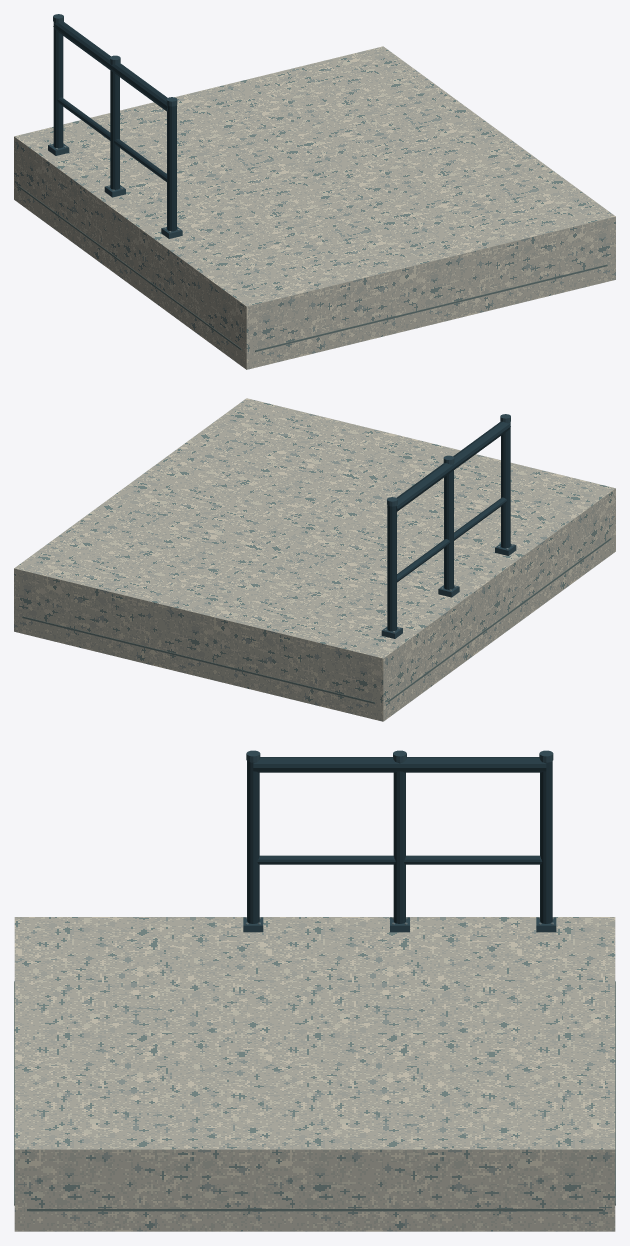
File: b_platform_island.glb
The picture shows the model from 3 angles, top to bottom: view 1: azimuth 30°, elevation 25°; view 2: azimuth 150°, elevation 25°; view 3: azimuth 270°, elevation 25°; orthographic projection. The views are drawn at different scales.
Parts seen in each view (by area): view 1: b_platform_island, b_platform_island_guard_0_top, b_platform_island_guard_0_post_2, b_platform_island_guard_0_post_0, b_platform_island_guard_0_post_1, b_platform_island_guard_0_low, b_platform_island_front_reveal_1, b_platform_island_side_reveal_-1; view 2: b_platform_island, b_platform_island_guard_0_top, b_platform_island_guard_0_post_0, b_platform_island_guard_0_post_2, b_platform_island_guard_0_post_1, b_platform_island_guard_0_low, b_platform_island_front_reveal_-1, b_platform_island_side_reveal_-1; view 3: b_platform_island, b_platform_island_guard_0_top, b_platform_island_guard_0_low, b_platform_island_guard_0_post_0, b_platform_island_guard_0_post_2, b_platform_island_guard_0_post_1, b_platform_island_side_reveal_1.
Part boxes in pixels (bbox=[...]): b_platform_island: bbox=[14, 46, 615, 369]; b_platform_island_guard_0_top: bbox=[53, 21, 167, 111]; b_platform_island_guard_0_post_2: bbox=[167, 105, 176, 231]; b_platform_island_guard_0_post_0: bbox=[53, 22, 63, 148]; b_platform_island_guard_0_post_1: bbox=[110, 64, 119, 189]; b_platform_island_guard_0_low: bbox=[57, 97, 166, 181]; b_platform_island_front_reveal_1: bbox=[255, 264, 607, 351]; b_platform_island_side_reveal_-1: bbox=[18, 186, 241, 350]; b_platform_island: bbox=[14, 398, 615, 721]; b_platform_island_guard_0_top: bbox=[396, 421, 510, 511]; b_platform_island_guard_0_post_0: bbox=[387, 505, 396, 631]; b_platform_island_guard_0_post_2: bbox=[501, 422, 510, 548]; b_platform_island_guard_0_post_1: bbox=[444, 464, 453, 589]; b_platform_island_guard_0_low: bbox=[397, 497, 506, 582]; b_platform_island_front_reveal_-1: bbox=[22, 616, 374, 703]; b_platform_island_side_reveal_-1: bbox=[388, 538, 611, 702]; b_platform_island: bbox=[14, 917, 615, 1231]; b_platform_island_guard_0_top: bbox=[253, 757, 546, 772]; b_platform_island_guard_0_low: bbox=[257, 855, 542, 864]; b_platform_island_guard_0_post_0: bbox=[540, 761, 552, 923]; b_platform_island_guard_0_post_2: bbox=[247, 761, 259, 923]; b_platform_island_guard_0_post_1: bbox=[393, 762, 405, 923]; b_platform_island_side_reveal_1: bbox=[27, 1209, 602, 1211].
Bounding box in the file's own units: 2.2 × 1.13 × 2.4.
Materials: 5 (1 with a texture image).
